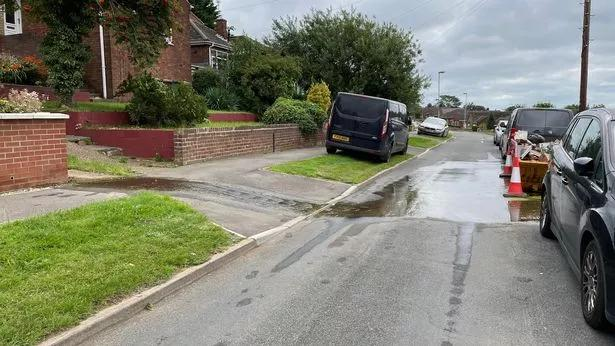water_leak: (354, 181, 535, 237)
